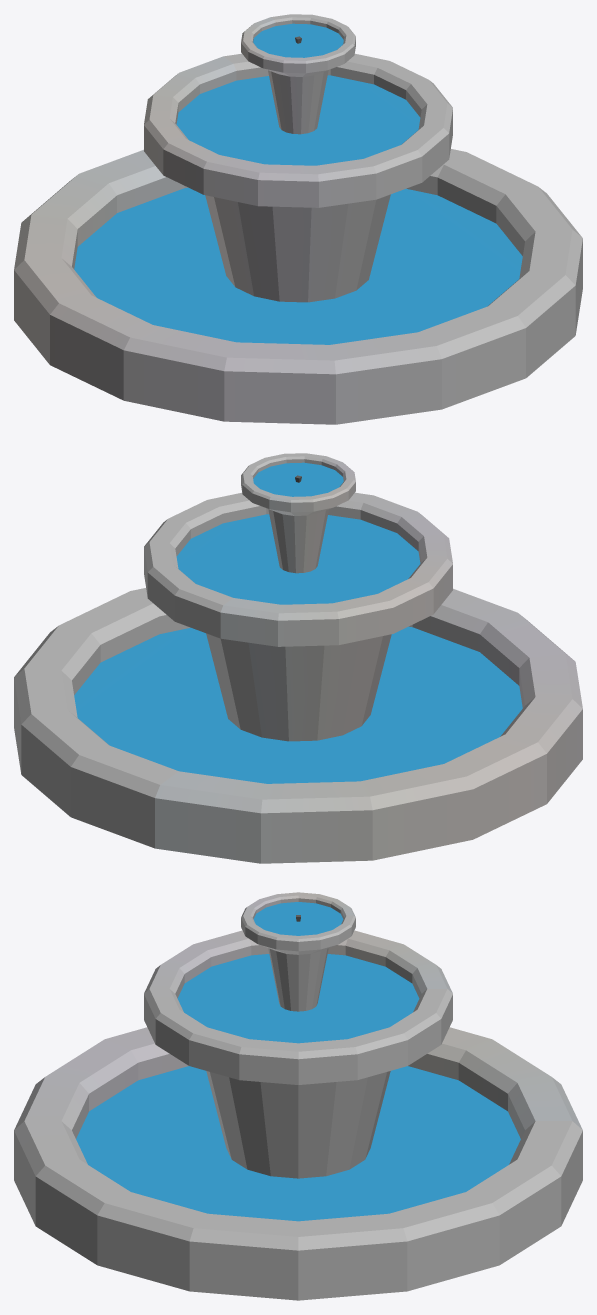
The model's file is Fountain.fbx.
The picture shows the model from 3 angles, top to bottom: view 1: azimuth 30°, elevation 25°; view 2: azimuth 150°, elevation 25°; view 3: azimuth 270°, elevation 25°; orthographic projection.
Parts seen in each view (by area): view 1: Fountain; view 2: Fountain; view 3: Fountain.
Boxes of the visible parts, x1,y1,x2,y2 form: Fountain: (14, 14, 582, 424); Fountain: (14, 453, 582, 863); Fountain: (14, 892, 582, 1300).
Bounding box in the file's own units: 600 × 308 × 600.
